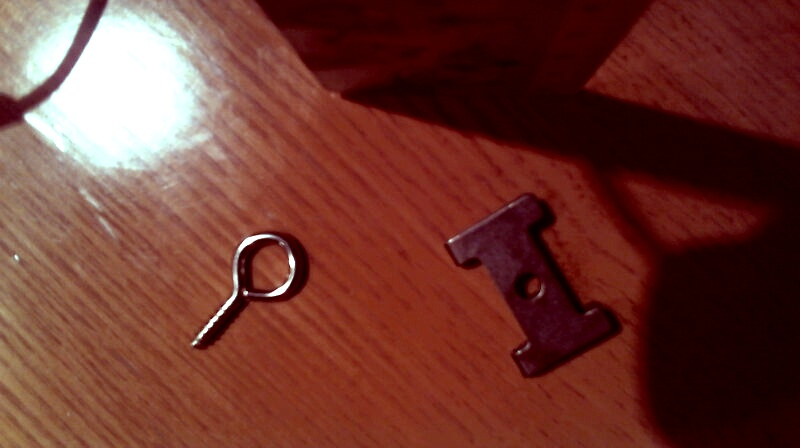O001: (188, 228, 305, 356)
O002: (441, 192, 618, 381)
